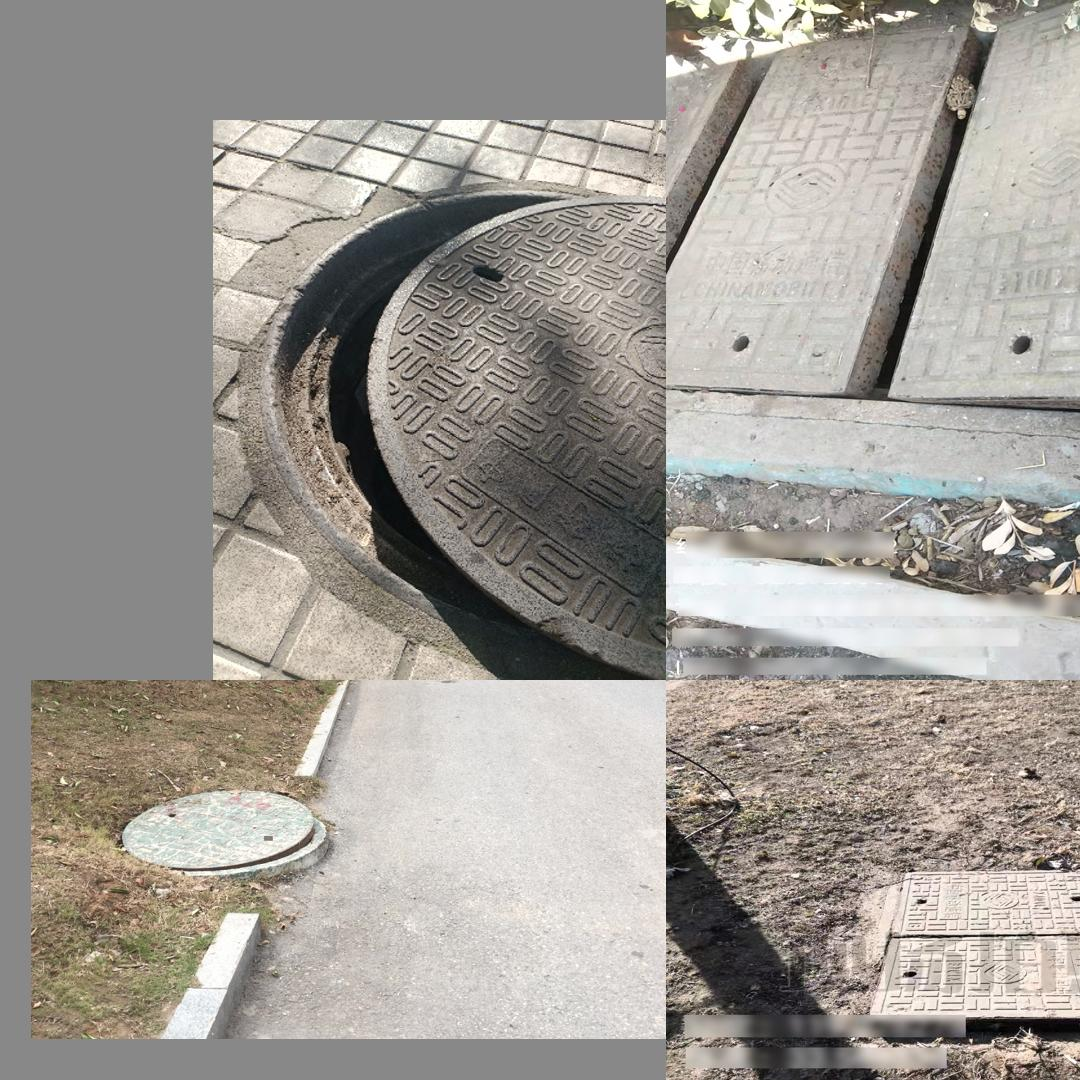uncovered: (264, 179, 664, 680), (666, 0, 1080, 418), (870, 869, 1080, 1034), (122, 790, 329, 874)
